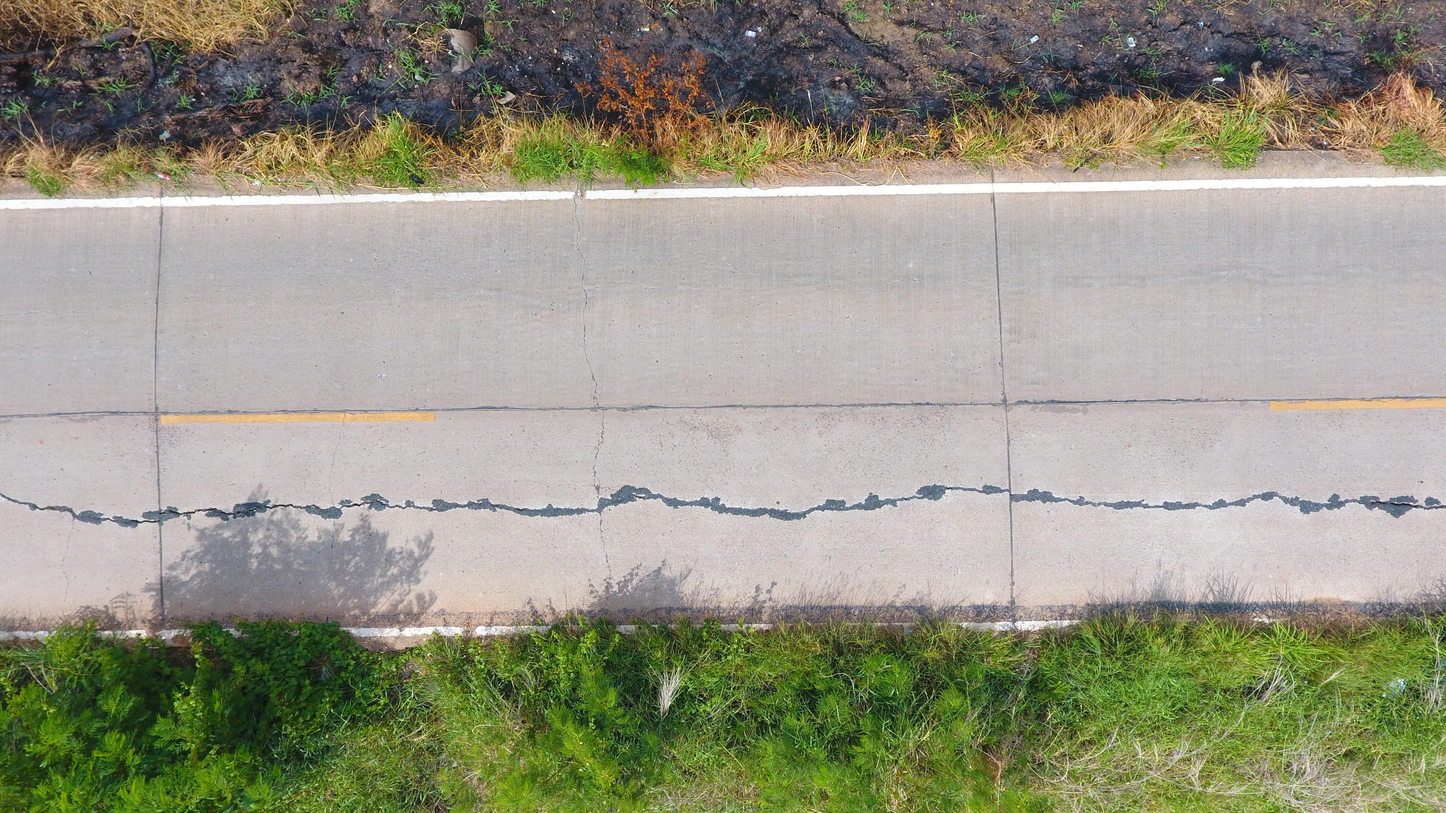GRIETA: (0, 484, 1009, 529), (1012, 488, 1446, 518), (157, 403, 1005, 415), (599, 269, 970, 293), (574, 191, 600, 407), (1007, 396, 1446, 406), (991, 192, 1007, 402), (154, 198, 163, 411), (329, 414, 346, 503), (60, 301, 156, 315), (599, 513, 612, 615), (592, 410, 605, 500), (0, 411, 155, 418), (160, 290, 218, 304), (515, 479, 594, 488), (158, 524, 165, 621), (1005, 406, 1011, 489), (155, 416, 160, 507), (1009, 492, 1013, 604), (0, 311, 58, 317), (330, 520, 335, 549)
